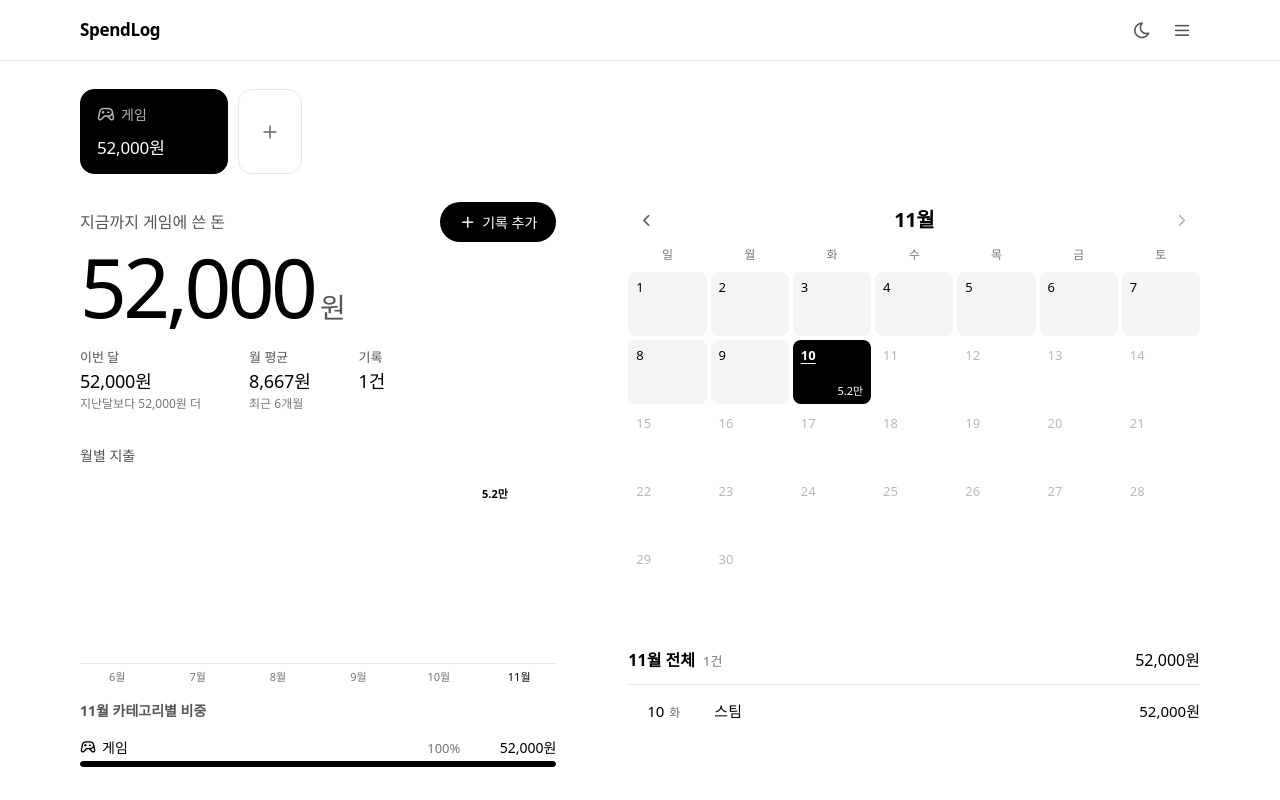
Scenario: App when the change request fails › keeps the form input and does not treat it as success
The width and height of the screenshot is (1280, 800).
Expected: the button with aria-label "스팀 수정" is shown, x1=620 y1=689 x2=1208 y2=732
Click the button "기록 추가" at (498, 222), box x1=440 y1=202 x2=556 y2=242
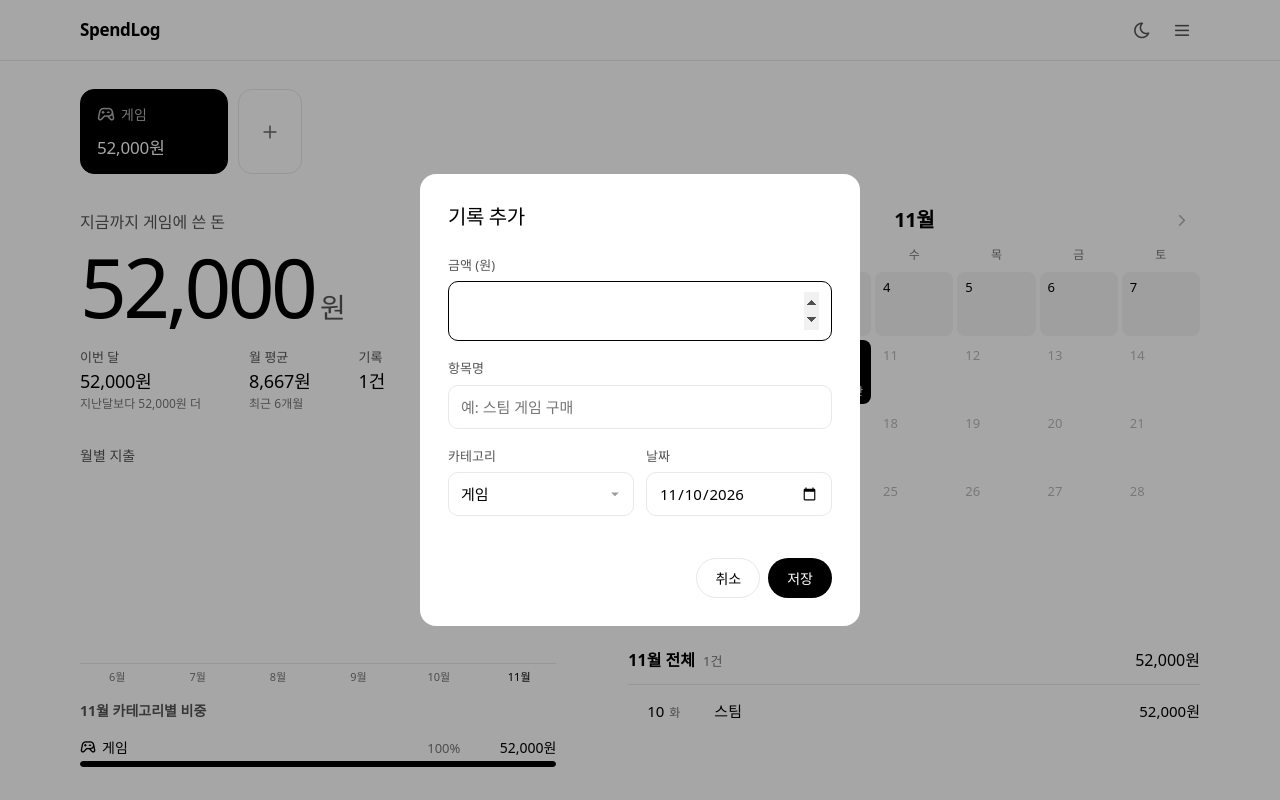
Type "30000" into the number field labelled "금액 (원)" at (640, 311), box x1=448 y1=281 x2=832 y2=341
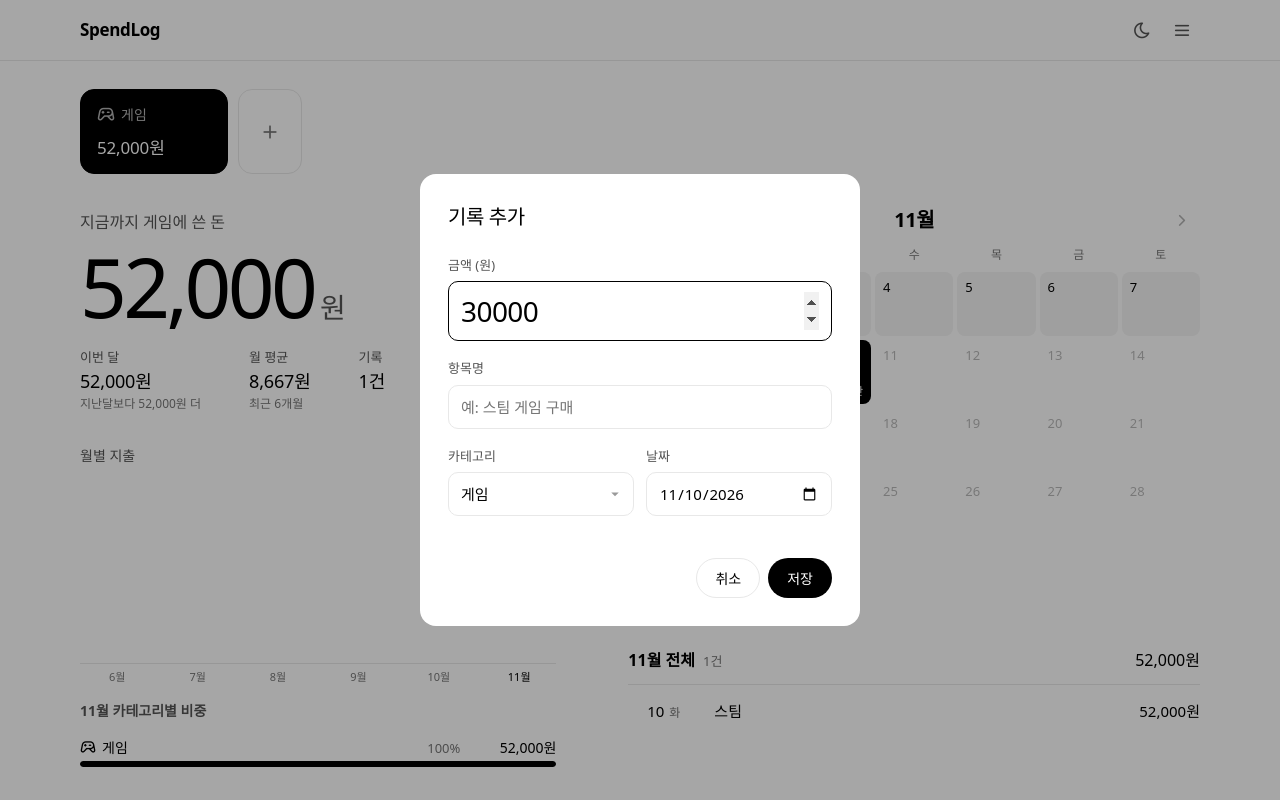
Type "패키지" into the field labelled "항목명" at (640, 407), box x1=448 y1=385 x2=832 y2=429
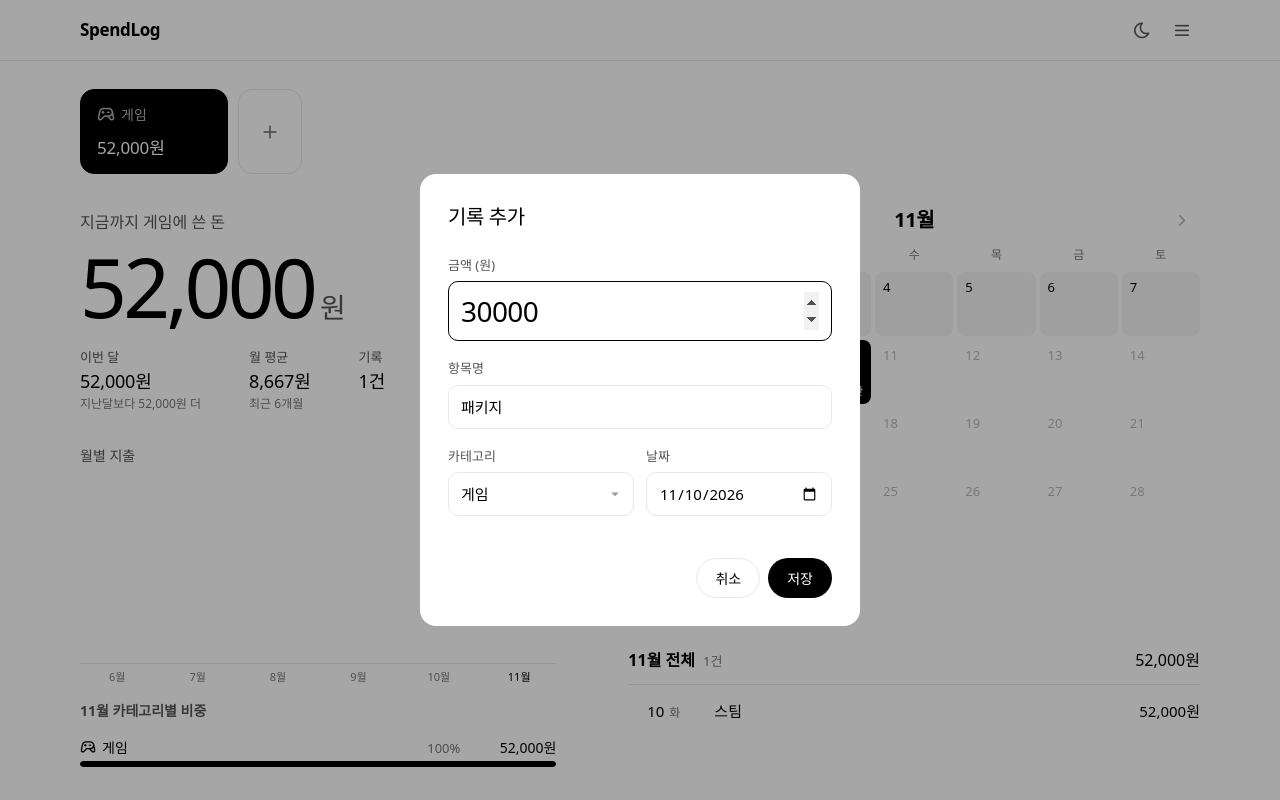
Click the button "저장" at (800, 578), box x1=768 y1=558 x2=832 y2=598
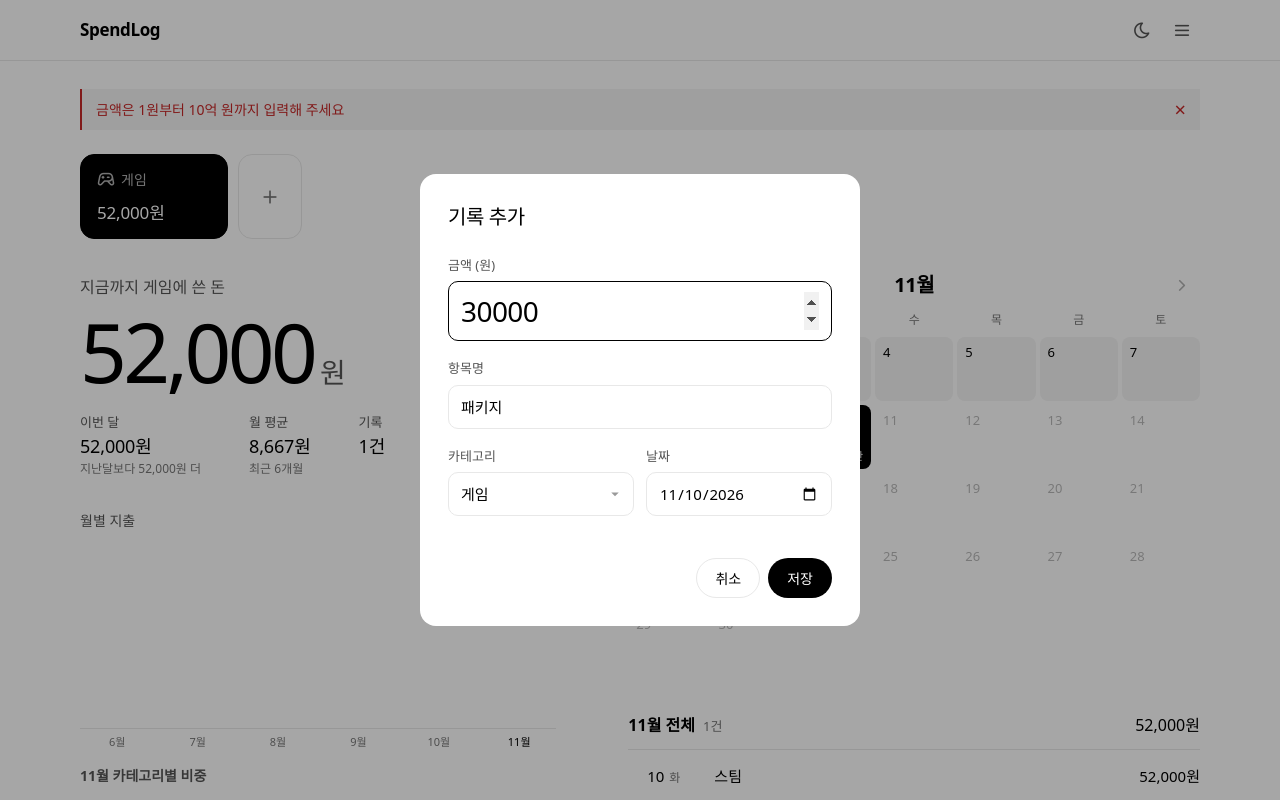
Expected: the dialog is shown, x1=420 y1=174 x2=860 y2=626
Expected: the text "금액은 1원부터 10억 원까지 입력해 주세요" is shown, x1=96 y1=100 x2=344 y2=119
